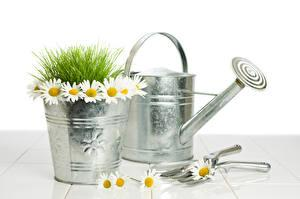chamomile: (45, 82, 64, 104), (78, 83, 101, 101), (58, 85, 82, 102), (24, 80, 43, 101), (102, 81, 121, 102), (108, 178, 138, 191), (115, 83, 134, 102), (97, 176, 118, 191), (133, 78, 143, 96)
